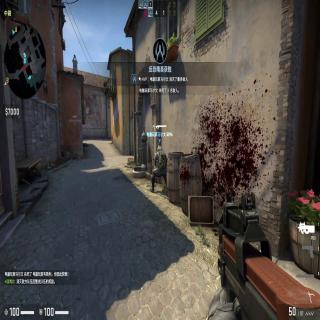CT-Head: (156, 144, 163, 152)
